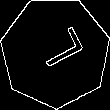L_SW: (27, 27, 84, 78)
